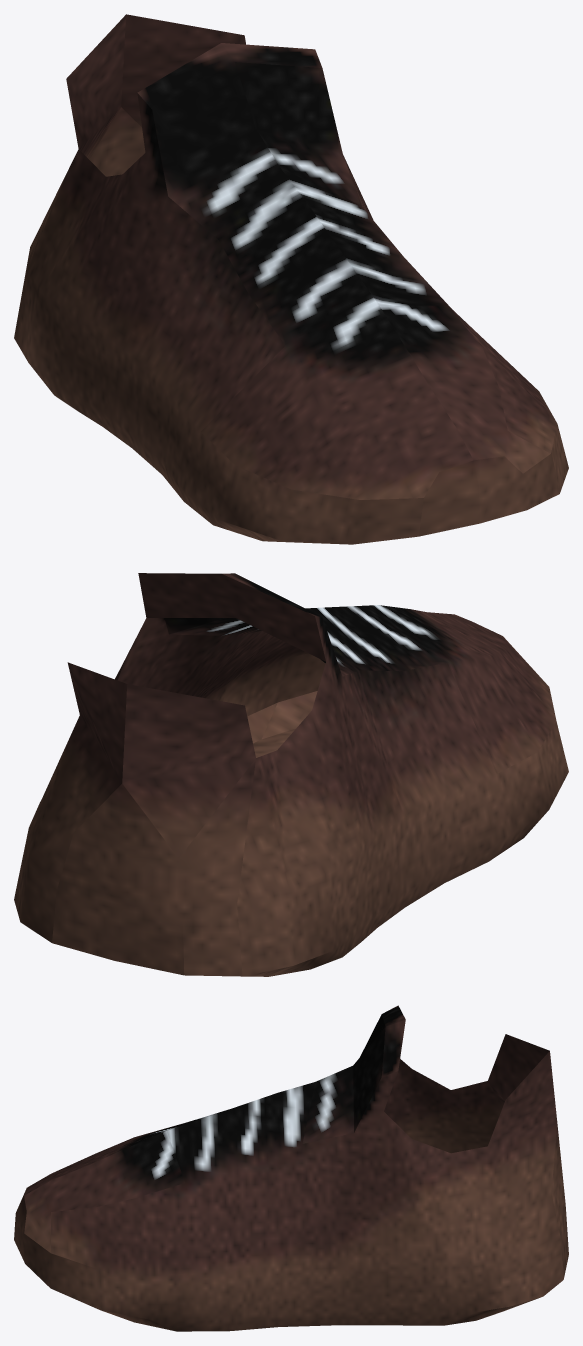
Rendered from Shoes.fbx.
3 views of the same model, one above another, from view 1: azimuth 30°, elevation 25°; view 2: azimuth 150°, elevation 25°; view 3: azimuth 270°, elevation 25° (orthographic). The views are drawn at different scales.
Visible parts, largest first — view 1: Shoes; view 2: Shoes; view 3: Shoes.
Boxes of the visible parts, left/top/right/bottom form: Shoes: left=14, top=14, right=568, bottom=544; Shoes: left=14, top=573, right=568, bottom=976; Shoes: left=14, top=1005, right=568, bottom=1331.
Bounding box in the file's own units: 16.91 × 16.46 × 32.42.
